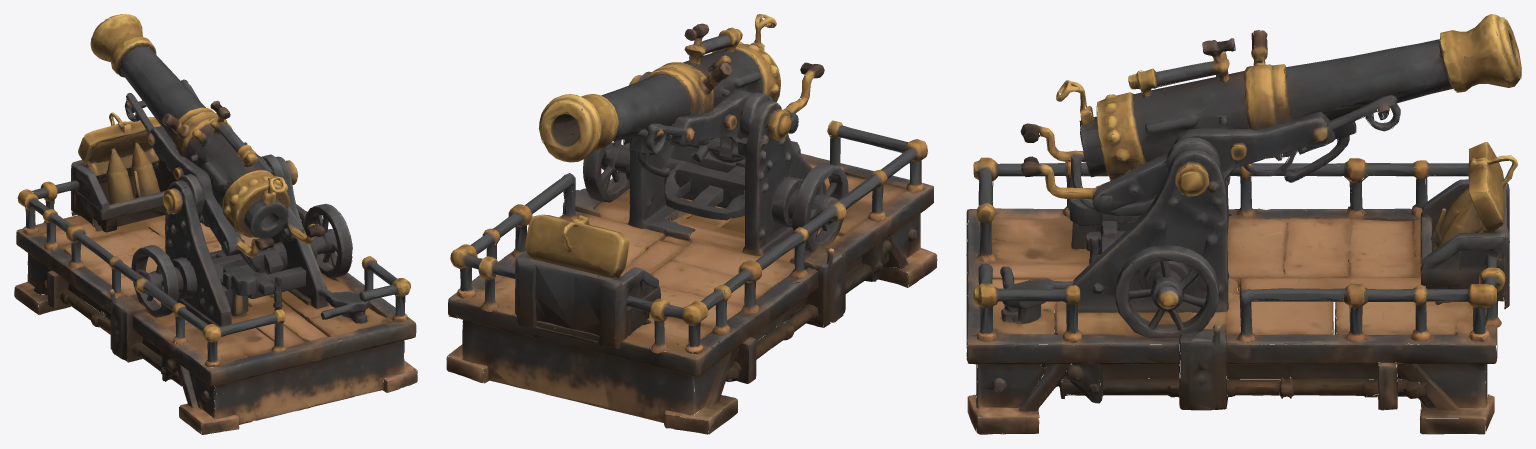
File: cf_crop_howitzer.glb
The picture shows the model from 3 angles, left to right: view 1: azimuth 30°, elevation 25°; view 2: azimuth 150°, elevation 25°; view 3: azimuth 270°, elevation 25°; orthographic projection. The views are drawn at different scales.
Parts seen in each view (by area): view 1: base, gun, head; view 2: base, gun, head; view 3: base, gun, head.
Part boxes in pixels (x1,y1,x2,y2): base: (14, 112, 417, 434); gun: (90, 14, 325, 315); head: (163, 160, 347, 326); base: (446, 120, 937, 434); gun: (538, 14, 824, 256); head: (615, 75, 826, 255); base: (966, 142, 1517, 434); gun: (1020, 14, 1521, 311); head: (1039, 131, 1227, 313).
Bounding box in the file's own units: 2.02 × 2.2 × 3.2.
Materials: 1 (1 with a texture image).
